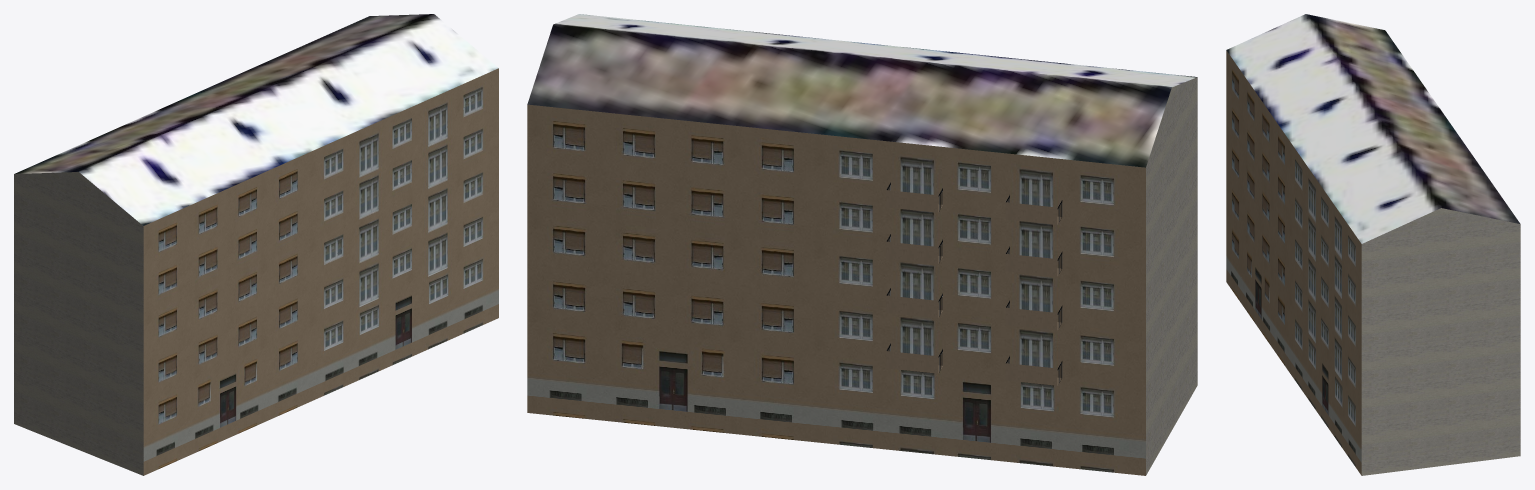
The model's file is Building001.dae.
The picture shows the model from 3 angles, left to right: view 1: azimuth 30°, elevation 25°; view 2: azimuth 150°, elevation 25°; view 3: azimuth 270°, elevation 25°; orthographic projection. The views are drawn at different scales.
Parts seen in each view (by area): view 1: SketchUp (×3); view 2: SketchUp (×11); view 3: SketchUp (×3).
Boxes of the visible parts, bbox=[...] form: SketchUp (×3): bbox=[14, 14, 498, 475]; SketchUp (×11): bbox=[527, 14, 1197, 475]; SketchUp (×3): bbox=[1226, 14, 1520, 475].
Size of the model in its own units: 1382 by 804 by 778.
Materials: 12 (12 with a texture image).
